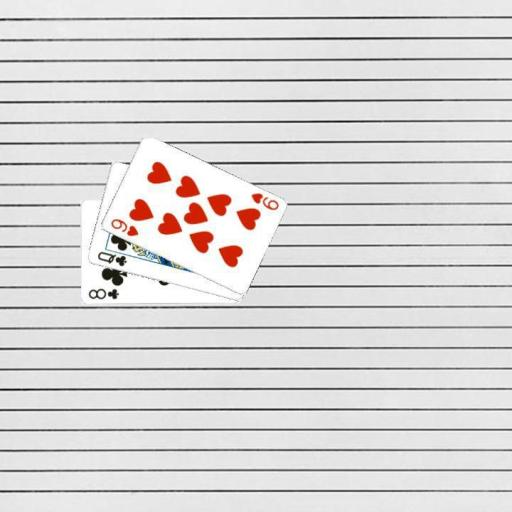card-corner: (108, 216, 140, 238), (248, 190, 280, 212), (94, 248, 128, 268), (86, 286, 120, 301)
